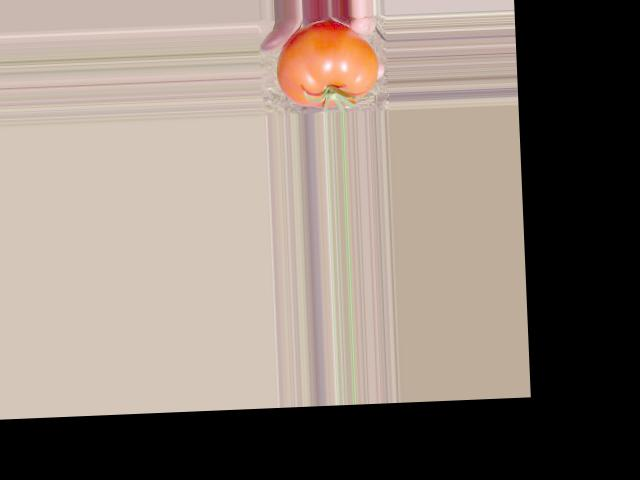tomato: (276, 18, 380, 109)
